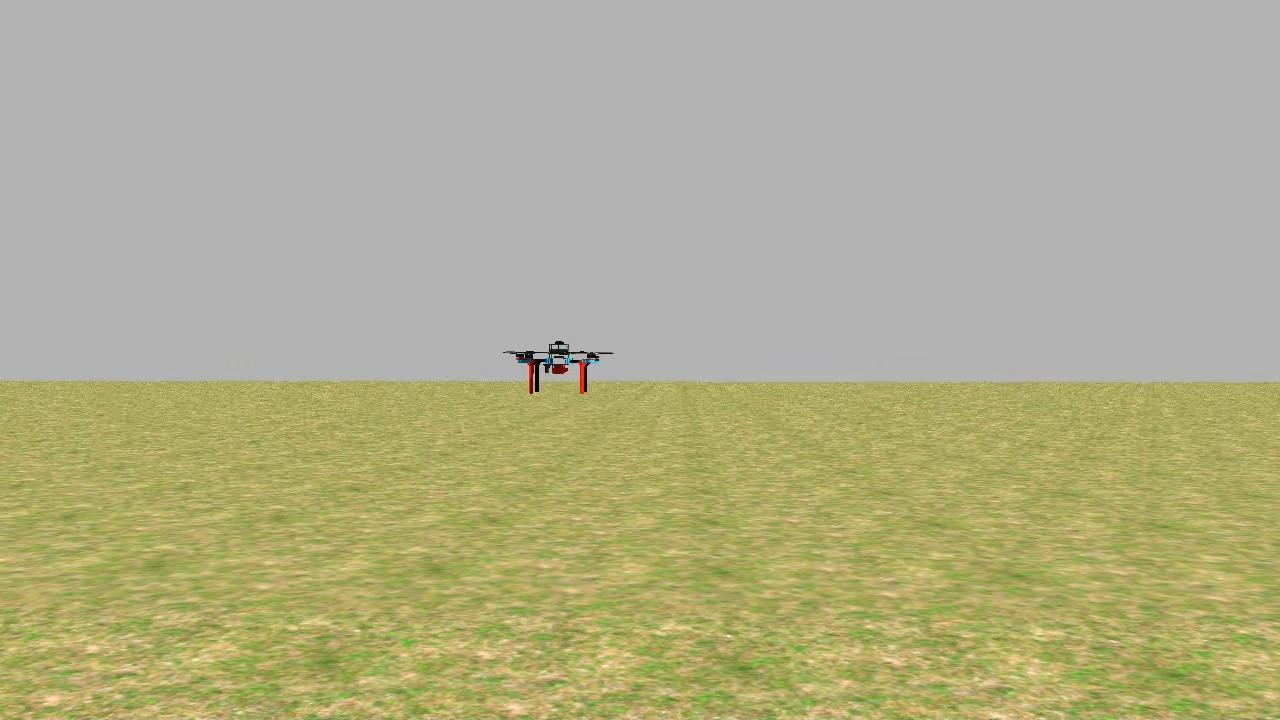UAV: (493, 332, 614, 394)
